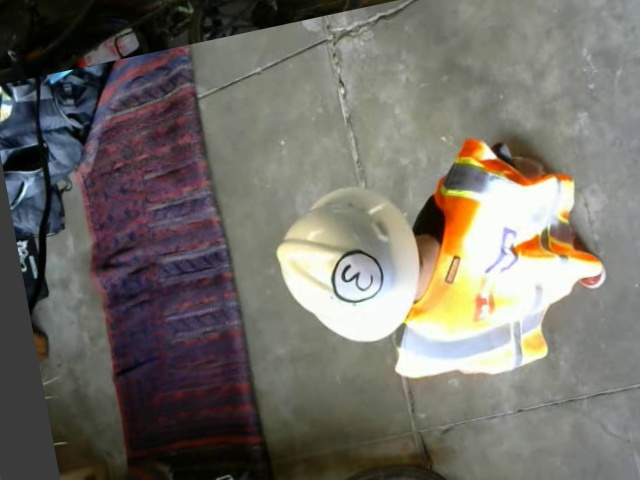three: (327, 244, 386, 305)
